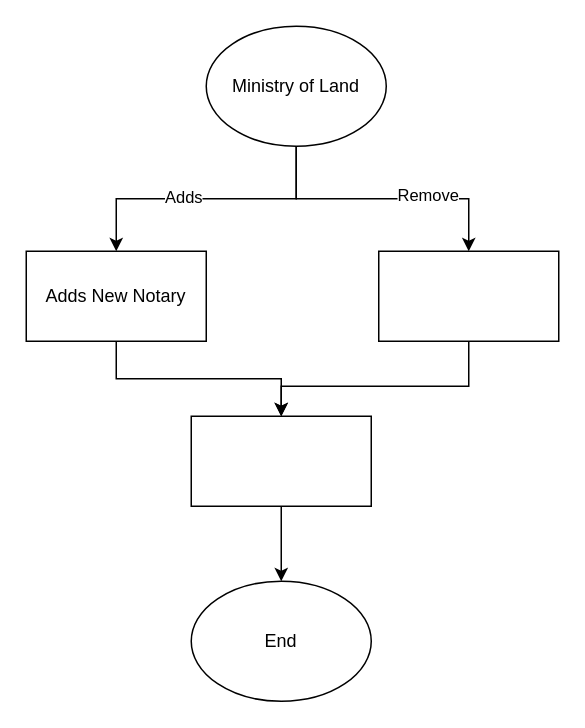
Image size: 585x728. Some labels were removed from this diagram. Each missing label, with the centre of its shape:
"Removes A Notary" goes at (468,295).
"Valid Notaries are updated" goes at (280,460).
